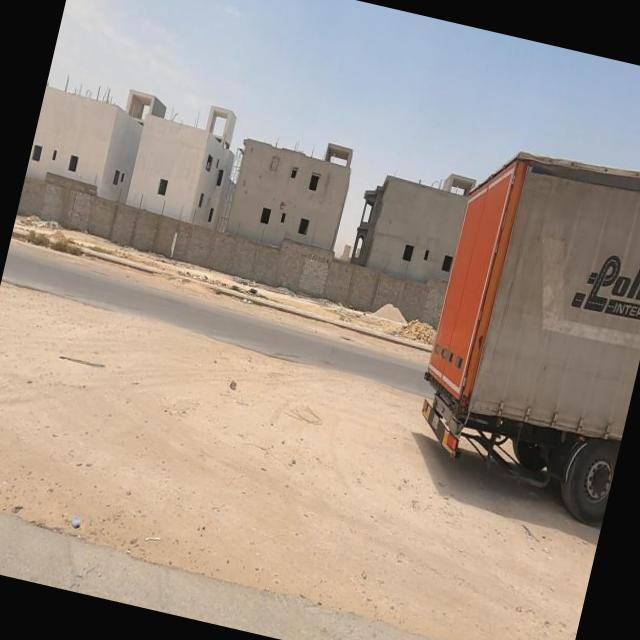debris: (39, 476, 125, 566)
